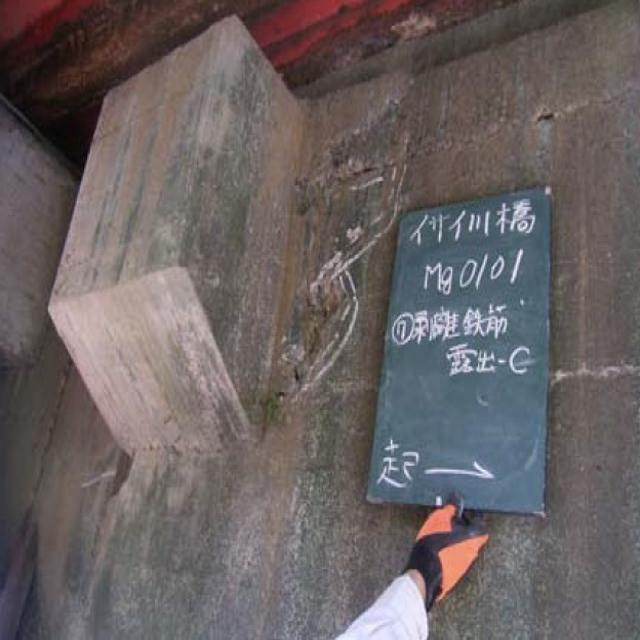spalling: (277, 106, 396, 428)
